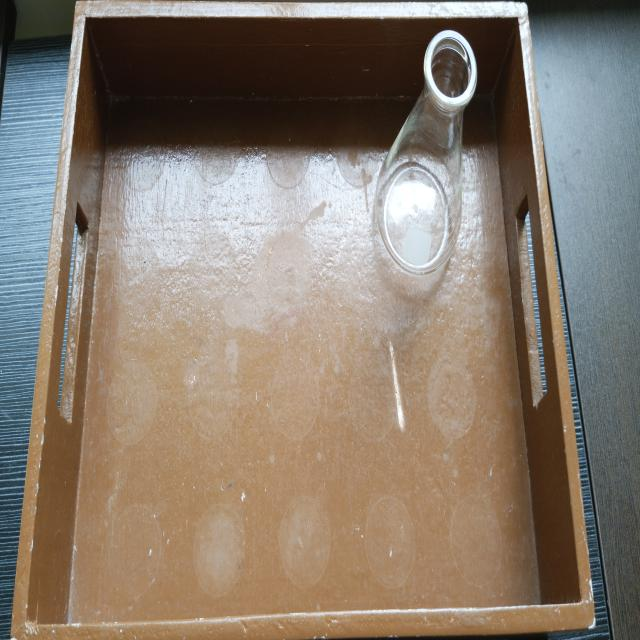erlenmeyer_flask: (371, 25, 480, 280)
